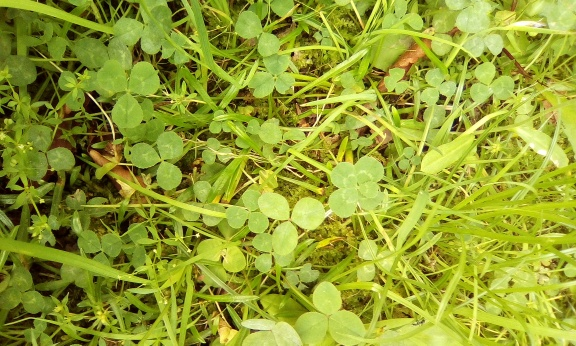4leaf: (328, 156, 384, 218)
